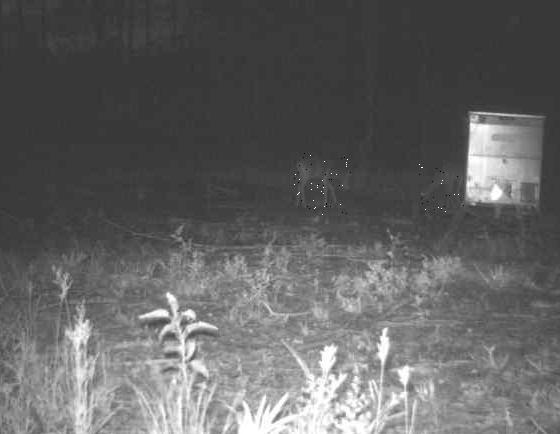Deer: (293, 152, 351, 215), (416, 160, 463, 215)
